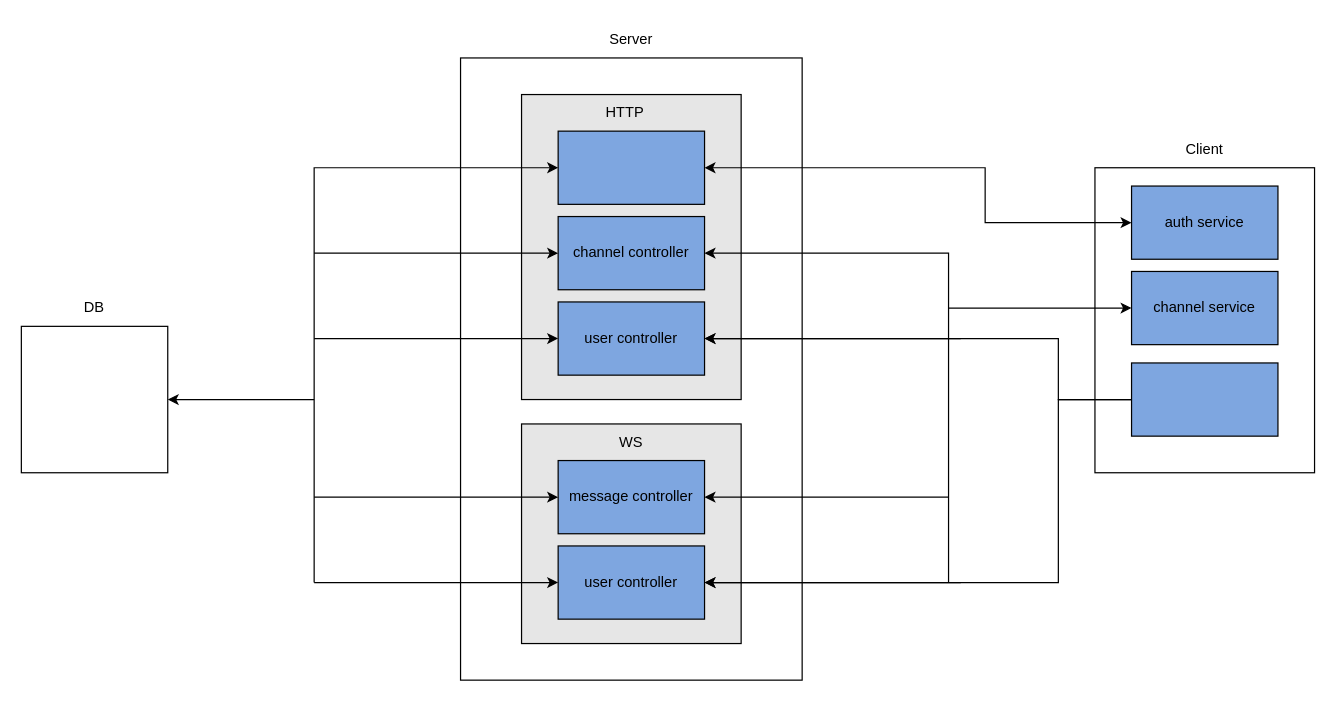
Image size: 1336x702. Some labels were removed from this diagram. Here are the shapes that lost their labels. From the top down, the centre of each, then its label:
(x=631, y=167): auth controller
(x=94, y=399): PostgeSQL
(x=1204, y=399): user service
